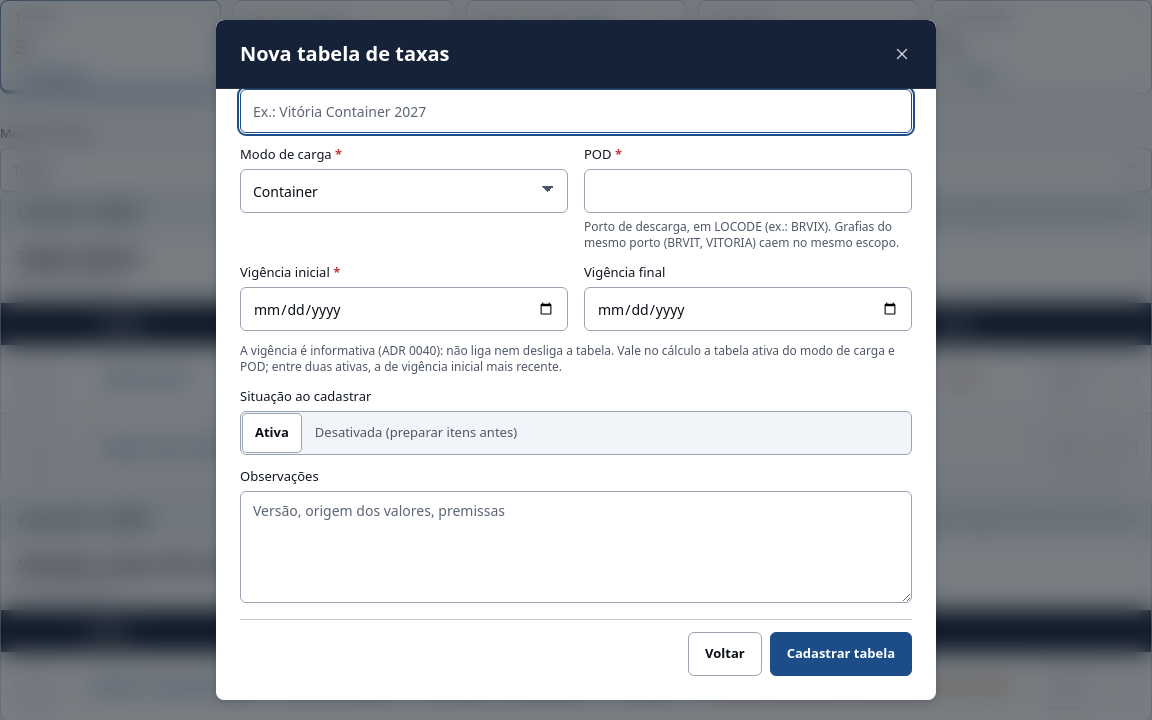
Tabelas de Taxas Locais › mostra o erro junto do campo e não grava tabela sem nome
This screenshot has width=1152, height=720.
(page scrolled)
Click the button "Cadastrar tabela" at coordinates (841, 654), box [770,632,912,676]
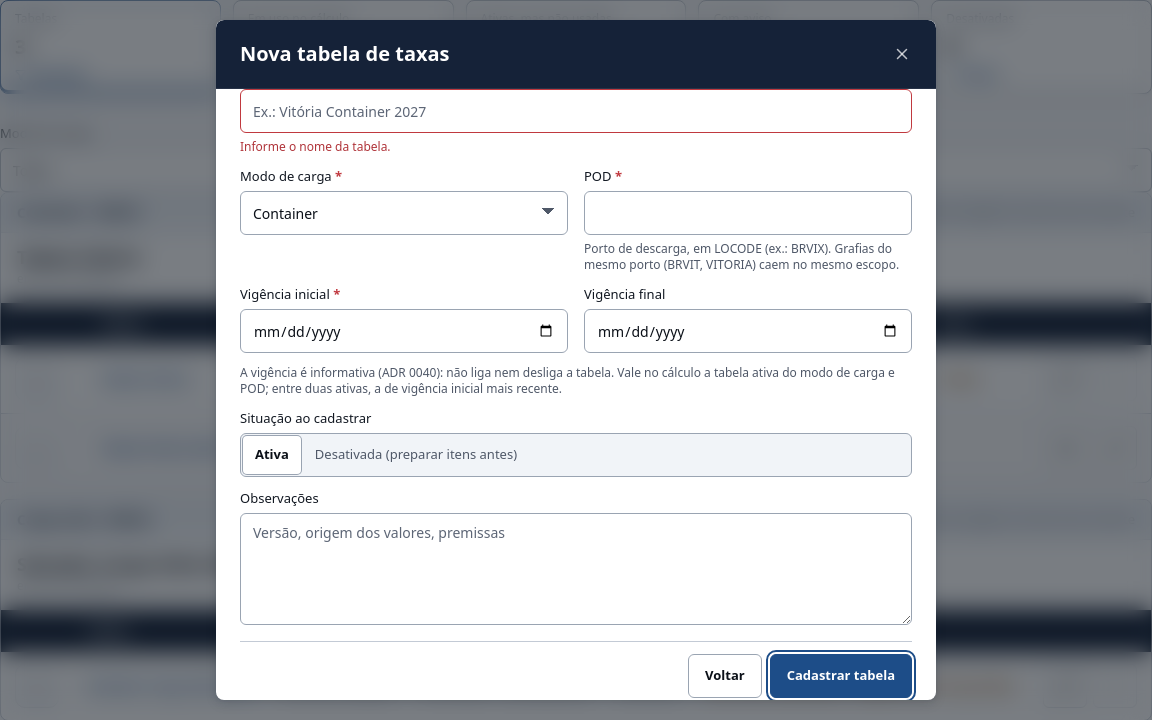
Expected: the text "Informe o nome da tabela." is shown, [240,138,391,155]
